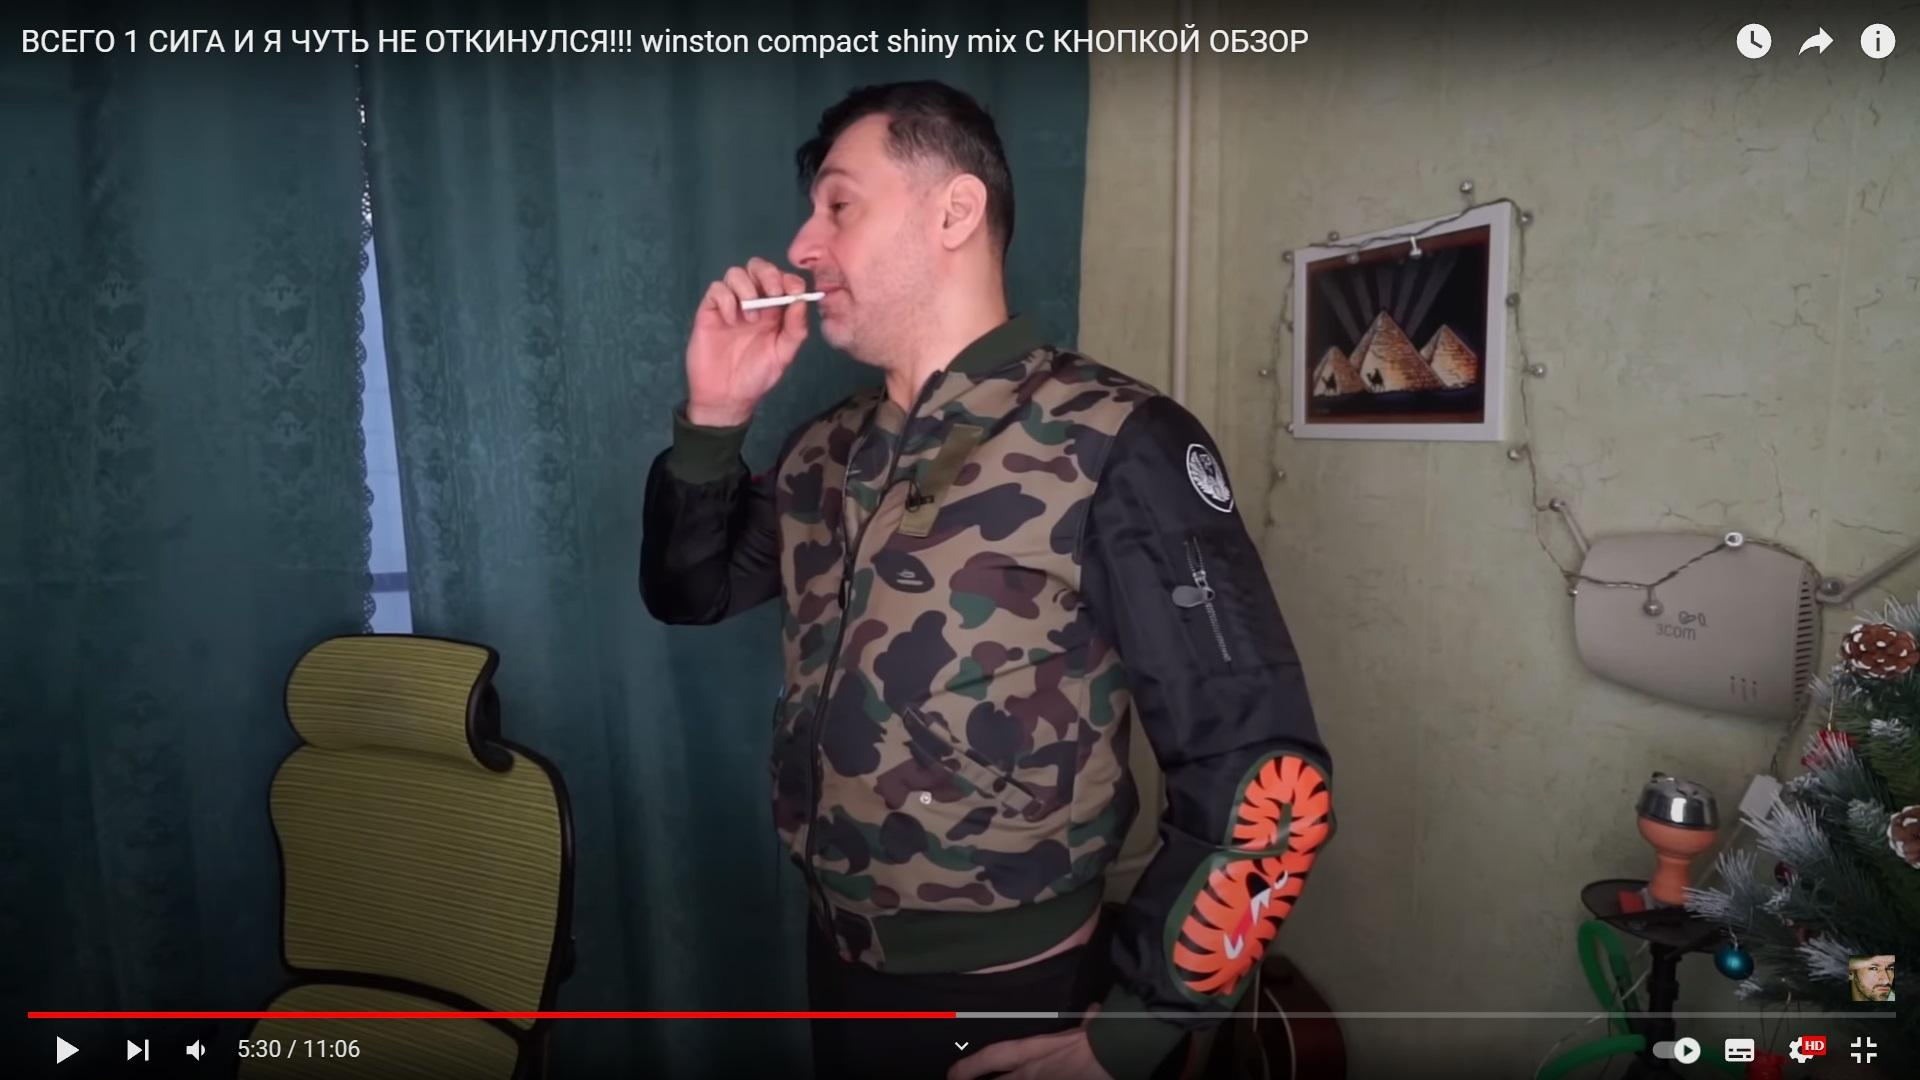cigarette: (741, 291, 825, 311)
